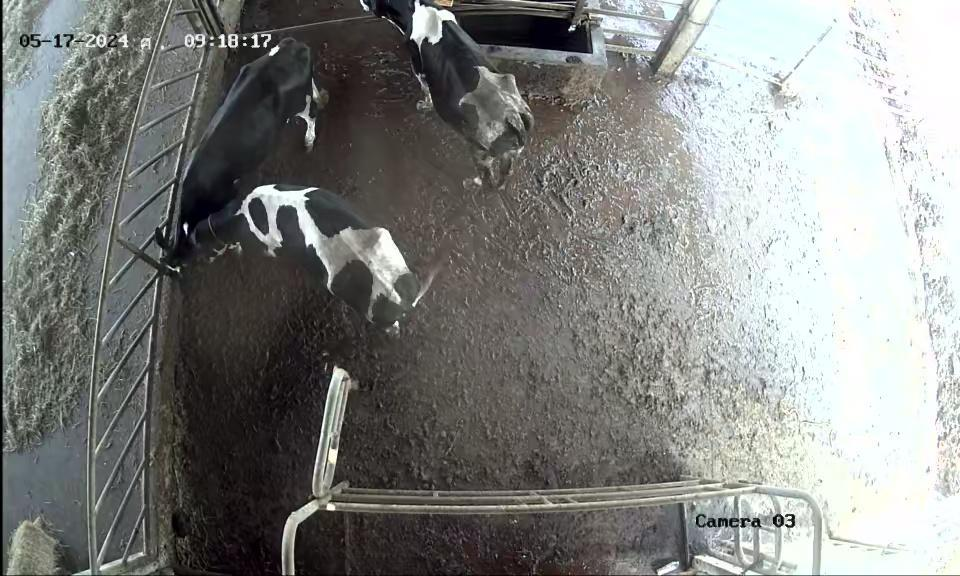stand: (154, 180, 447, 338), (154, 41, 347, 227), (354, 0, 539, 191)
